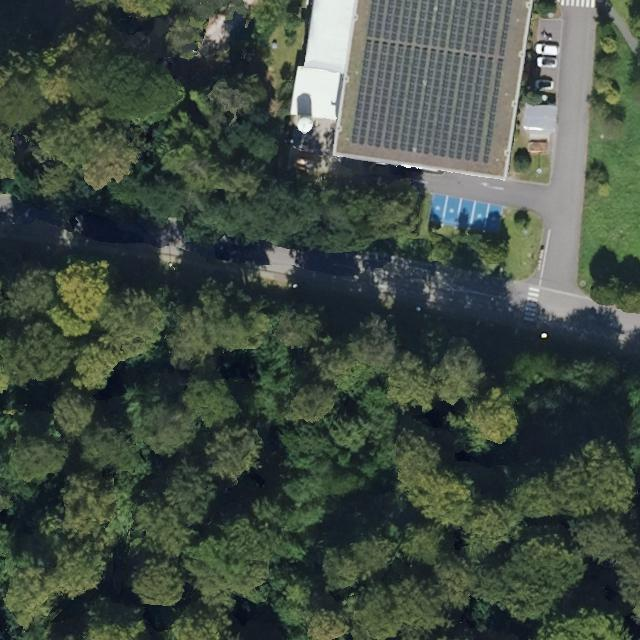PV: (348, 2, 520, 167)
